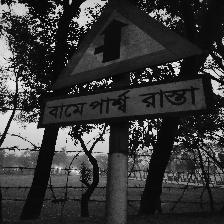Side-road-left: (38, 0, 216, 131)
